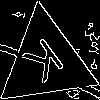K: (21, 36, 72, 93)
